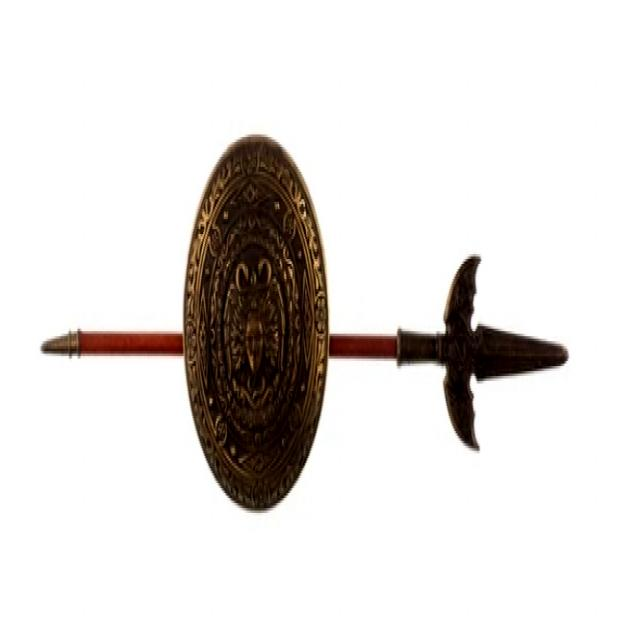spear: (31, 238, 572, 470)
